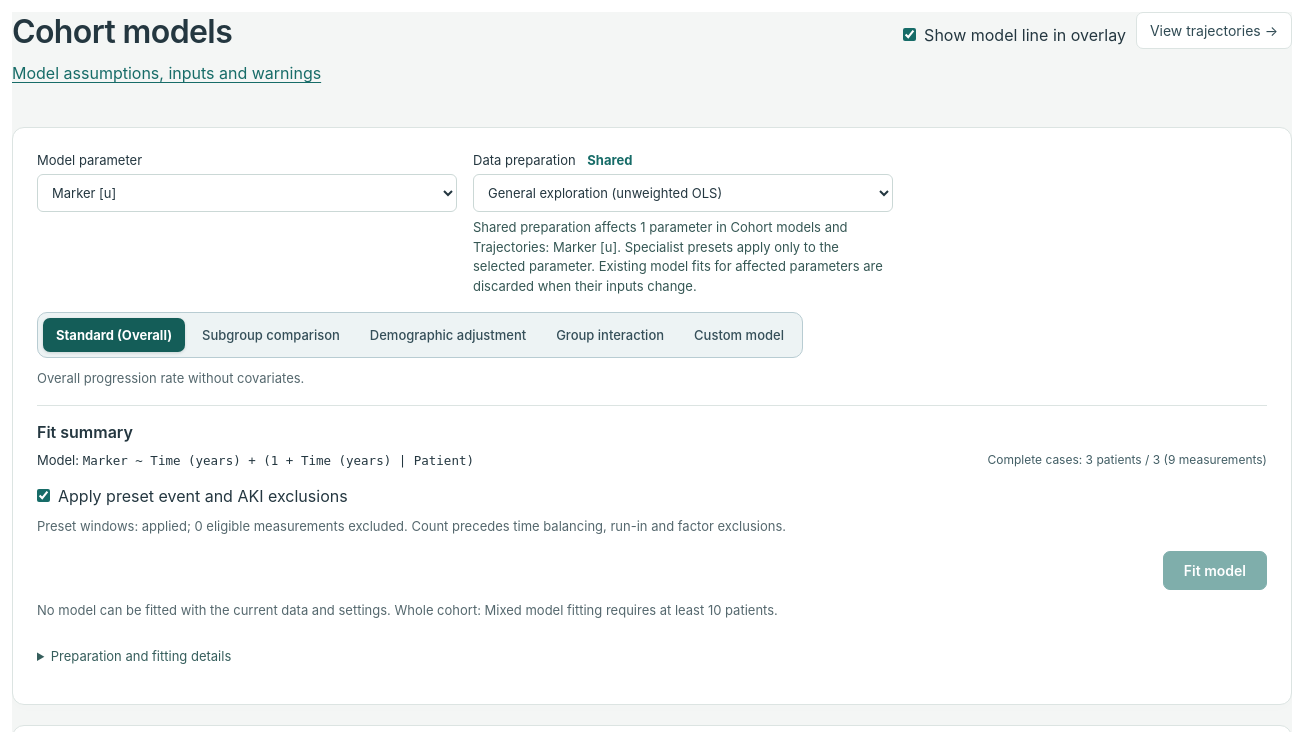
Scenario: workspace model validity › invalidates a fitted result when preset exclusions are switched off
The image size is (1304, 732).
Expected: the text "Preset windows: applied; 0 eligible measurements excluded" is shown, x1=37 y1=518 x2=786 y2=534
Click the checkbox labelled "Apply preset event and AKI exclusions" at (44, 496), box x1=37 y1=489 x2=50 y2=502
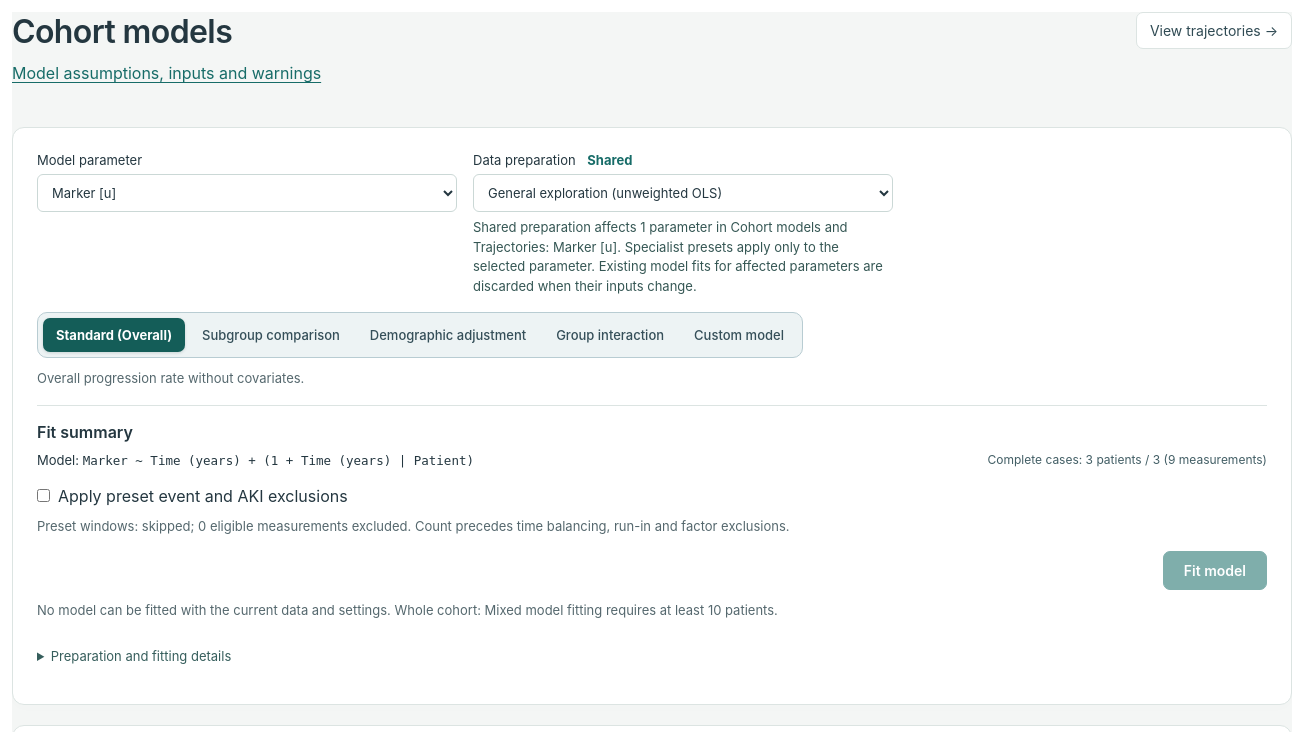
Expected: the text "Preset windows: skipped; 0 eligible measurements excluded" is shown, x1=37 y1=518 x2=790 y2=534
